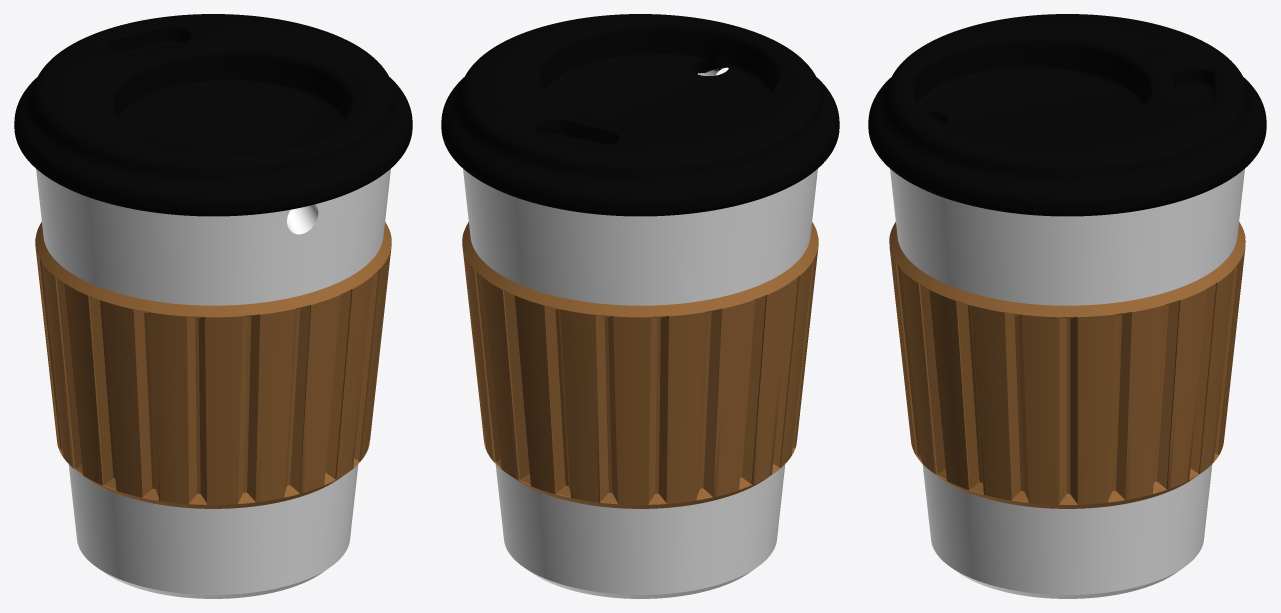
Rendered from COFFE CUP .glb.
3 views of the same model, side by side, from view 1: azimuth 30°, elevation 25°; view 2: azimuth 150°, elevation 25°; view 3: azimuth 270°, elevation 25° (orthographic).
Parts seen in each view (by area): view 1: 3MF Object; view 2: 3MF Object; view 3: 3MF Object.
Boxes of the visible parts, box(x1,y1,x2,y2) form: 3MF Object: box(14, 14, 412, 598); 3MF Object: box(441, 14, 839, 598); 3MF Object: box(868, 14, 1266, 598).
Bounding box in the file's own units: 0.022 × 0.028 × 0.022.
